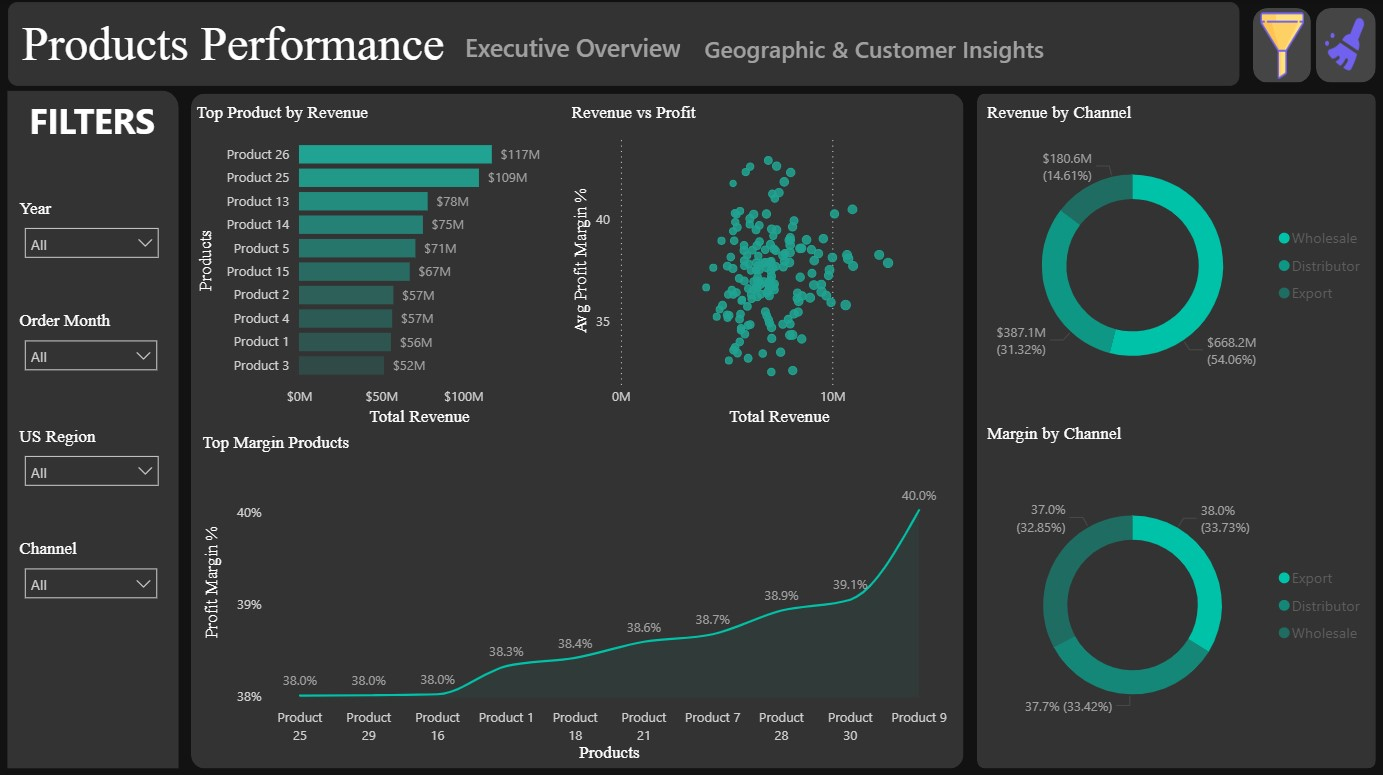

This screenshot's page, from the dashboard's own definition file:
{"tool":"powerbi","page":{"name":"Product & Channel Performance","canvas":[1280,720],"ordinal":1},"visuals":[{"type":"barChart","title":"Top Product by Revenue","fields":{"Category":["Sales_data.product_name"],"Y":["Measures_.Total Revenue"]},"box":[174.6,87.3,349.3,330.9],"z":0},{"type":"scatterChart","title":"Revenue vs Profit","fields":{"X":["Customer Summary.Total Revenue"],"Y":["Customer Summary.Avg Profit Margin %"],"Size":["Sum(Customer Summary.Order Count)"]},"box":[890,87.3,383,330.9],"z":1000},{"type":"lineChart","title":"Top Margin Products","fields":{"Category":["Sales_data.product_name"],"Y":["Measures_.Profit Margin %"]},"box":[533.1,87.3,347.7,330.9],"z":2000},{"type":"donutChart","title":"Revenue by Channel","fields":{"Category":["Sales_data.channel"],"Y":["Measures_.Total Revenue"]},"box":[174.6,425.9,349.3,283.4],"z":3000},{"type":"lineStackedColumnComboChart","title":"Profit by Channel","fields":{"Category":["Sales_data.channel"],"Y":["Measures_.Total Profit"]},"box":[533.1,425.9,347.7,283.4],"z":4000},{"type":"donutChart","title":"Margin by Channel","fields":{"Category":["Sales_data.channel"],"Y":["Measures_.Profit Margin %"]},"box":[890,425.9,381.4,283.4],"z":5000},{"type":"actionButton","box":[1216.4,7.7,55.1,68.9],"z":6000,"group":"g2"},{"type":"actionButton","box":[1158.2,7.7,53.6,68.9],"z":7000,"group":"g2"},{"type":"shape","box":[6.1,82.7,162.4,628.1],"z":7000},{"type":"group","id":"g1","title":"Group 1","box":[16.9,182.3,137.9,386],"z":8000},{"type":"textbox","box":[16.9,84.3,137.9,72],"z":9000},{"type":"group","id":"g2","title":"Group 2","box":[7.7,3.1,1263.8,76.6],"z":10000},{"type":"actionButton","box":[479.5,4.6,323.2,75.1],"z":10000,"group":"g2"},{"type":"actionButton","box":[7.7,3.1,462.6,76.6],"z":11000,"group":"g2"},{"type":"actionButton","box":[810.4,4.6,341.6,75.1],"z":12000,"group":"g2"},{"type":"slicer","title":"Year","fields":{"Values":["Sales_data.year"]},"box":[16.9,182.3,137.9,68.9],"z":21500,"group":"g1"},{"type":"slicer","title":"Channel","fields":{"Values":["Sales_data.channel"]},"box":[16.9,496.3,136.4,72],"z":22000,"group":"g1"},{"type":"slicer","title":"Order Month","fields":{"Values":["Sales_data.order_month_name"]},"box":[16.9,286.5,136.4,72],"z":22250,"group":"g1"},{"type":"slicer","title":"US Region","fields":{"Values":["Sales_data.us_region"]},"box":[16.9,392.2,137.9,72],"z":22500,"group":"g1"}]}

Visuals, with their boxes in screenshot pixels (x1, y1, x2, y2), scaled from the page's 1280x720 canvas onto the 1383x775 screenshot:
"Top Product by Revenue" barChart: region(189, 94, 566, 450)
"Revenue vs Profit" scatterChart: region(962, 94, 1375, 450)
"Top Margin Products" lineChart: region(576, 94, 952, 450)
"Revenue by Channel" donutChart: region(189, 458, 566, 763)
"Profit by Channel" lineStackedColumnComboChart: region(576, 458, 952, 763)
"Margin by Channel" donutChart: region(962, 458, 1374, 763)
actionButton: region(1314, 8, 1374, 82)
actionButton: region(1251, 8, 1309, 82)
shape: region(7, 89, 182, 765)
"Group 1" group: region(18, 196, 167, 612)
textbox: region(18, 91, 167, 168)
"Group 2" group: region(8, 3, 1374, 86)
actionButton: region(518, 5, 867, 86)
actionButton: region(8, 3, 508, 86)
actionButton: region(876, 5, 1245, 86)
"Year" slicer: region(18, 196, 167, 270)
"Channel" slicer: region(18, 534, 166, 612)
"Order Month" slicer: region(18, 308, 166, 386)
"US Region" slicer: region(18, 422, 167, 500)
